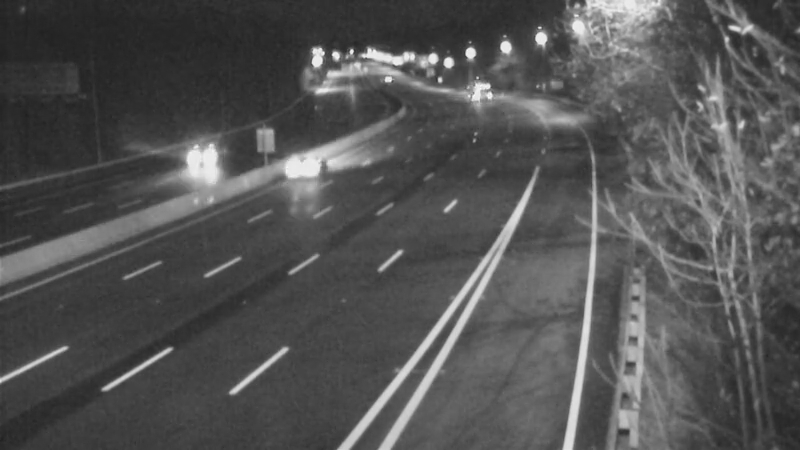vehicle: (273, 125, 353, 205), (167, 119, 247, 199), (361, 50, 411, 100), (452, 66, 502, 116)
